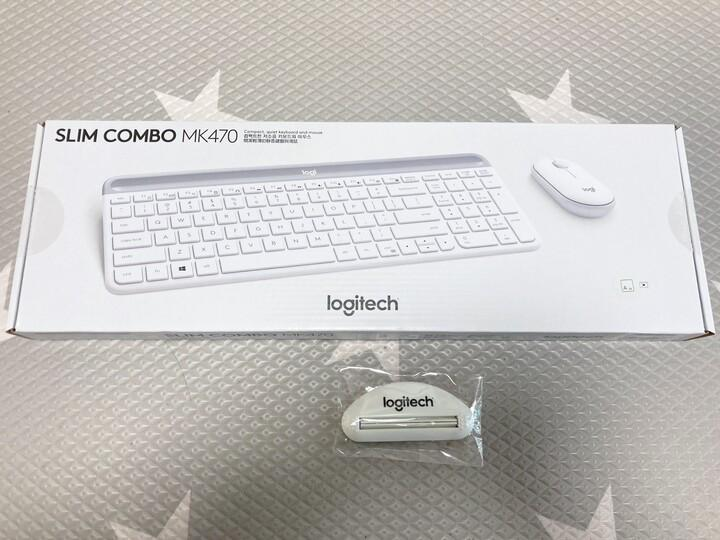book: (5, 118, 714, 340)
keyboard: (101, 163, 541, 295)
mouse: (529, 156, 615, 218)
